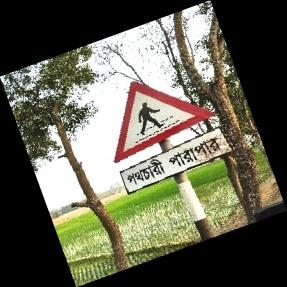Pedestrian-crossing: (113, 80, 231, 197)
